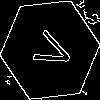V: (25, 25, 75, 74)
